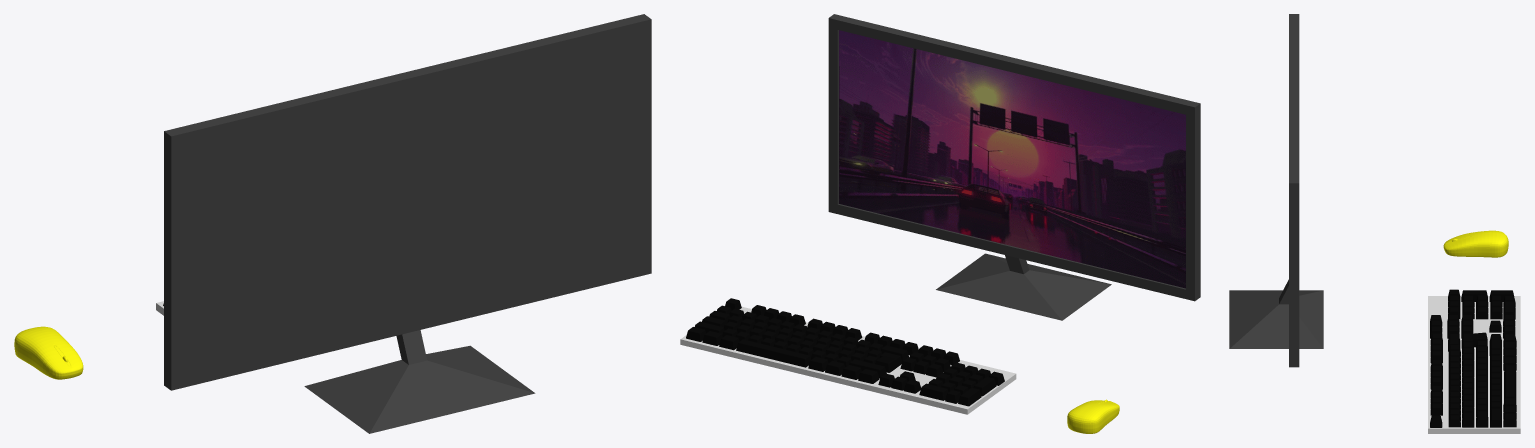
File: computer.glb
The picture shows the model from 3 angles, left to right: view 1: azimuth 30°, elevation 25°; view 2: azimuth 150°, elevation 25°; view 3: azimuth 270°, elevation 25°; orthographic projection. The views are drawn at different scales.
Visible parts, largest first — view 1: Monitor, Mouse; view 2: Monitor, Keyboard, Mouse; view 3: Keyboard, Monitor, Mouse.
Boxes of the visible parts, x1,y1,x2,y2 form: Monitor: (164, 14, 651, 433); Mouse: (14, 326, 83, 379); Monitor: (828, 14, 1200, 320); Keyboard: (680, 298, 1016, 414); Mouse: (1067, 399, 1119, 433); Keyboard: (1428, 289, 1520, 433); Monitor: (1229, 14, 1323, 367); Mouse: (1443, 230, 1508, 257).
Bounding box in the file's own units: 0.449 × 0.263 × 0.294.
5 materials, 1 textured.
